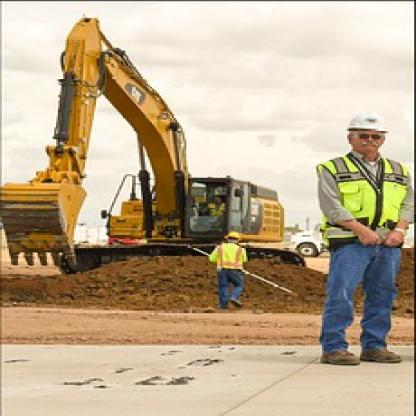excavator: (2, 12, 307, 278)
person: (308, 107, 413, 366), (199, 226, 248, 310)
